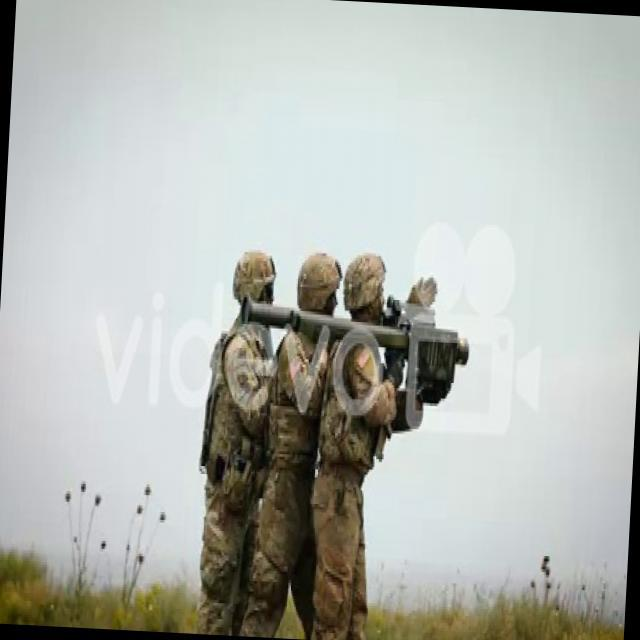rocket: (238, 295, 469, 365)
